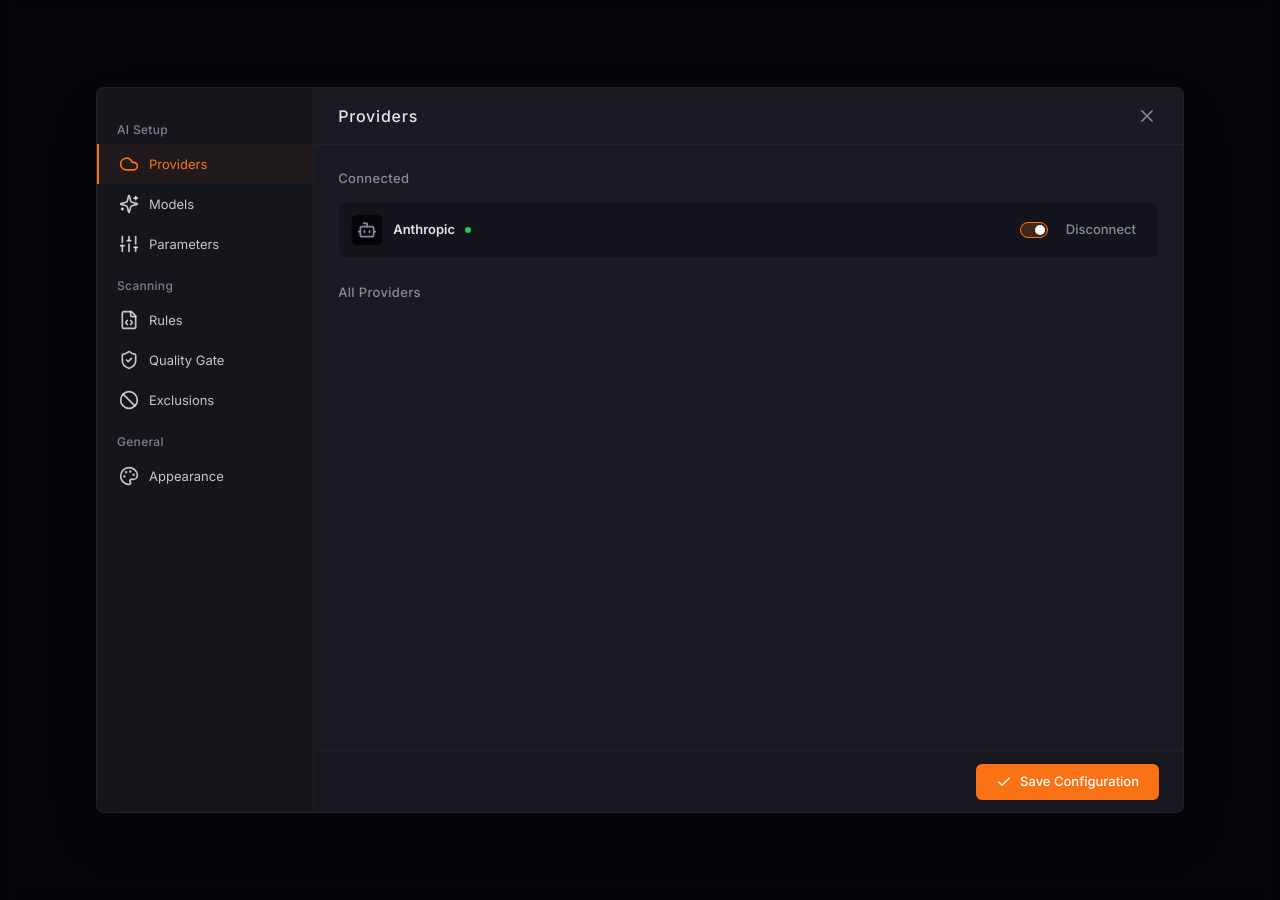
it: SettingsDrawer › loads initial config values
The image size is (1280, 900).
expect the text "Anthropic" is shown: met, box 393,220 -> 455,240
What coordinates should you click on to do the following:
click the button "Models"
I would click on:
 (205, 204)
Its box is 97,184 -> 313,224.
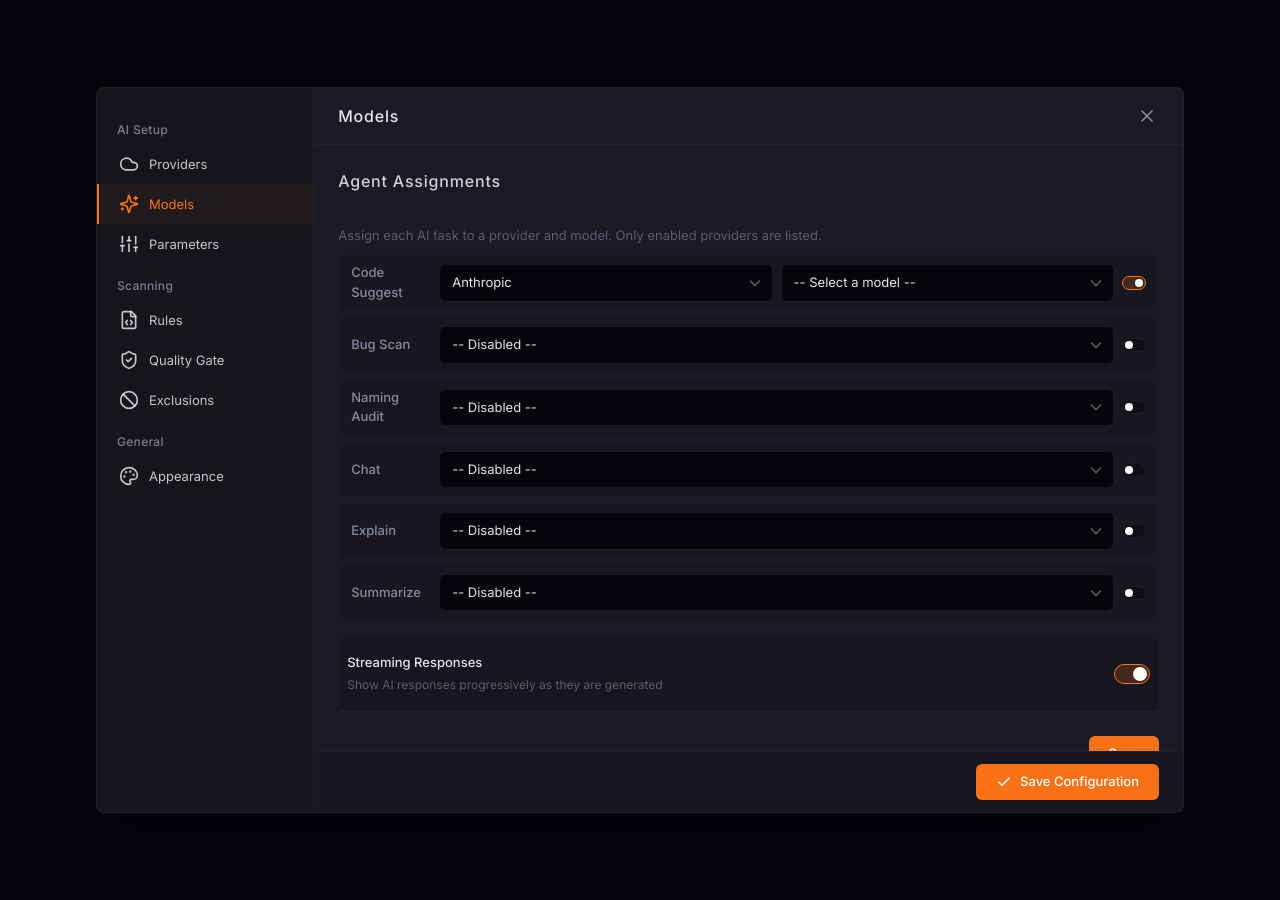
expect the 1st dropdown showing "Anthropic" is shown: met, box 439,264 -> 773,302
